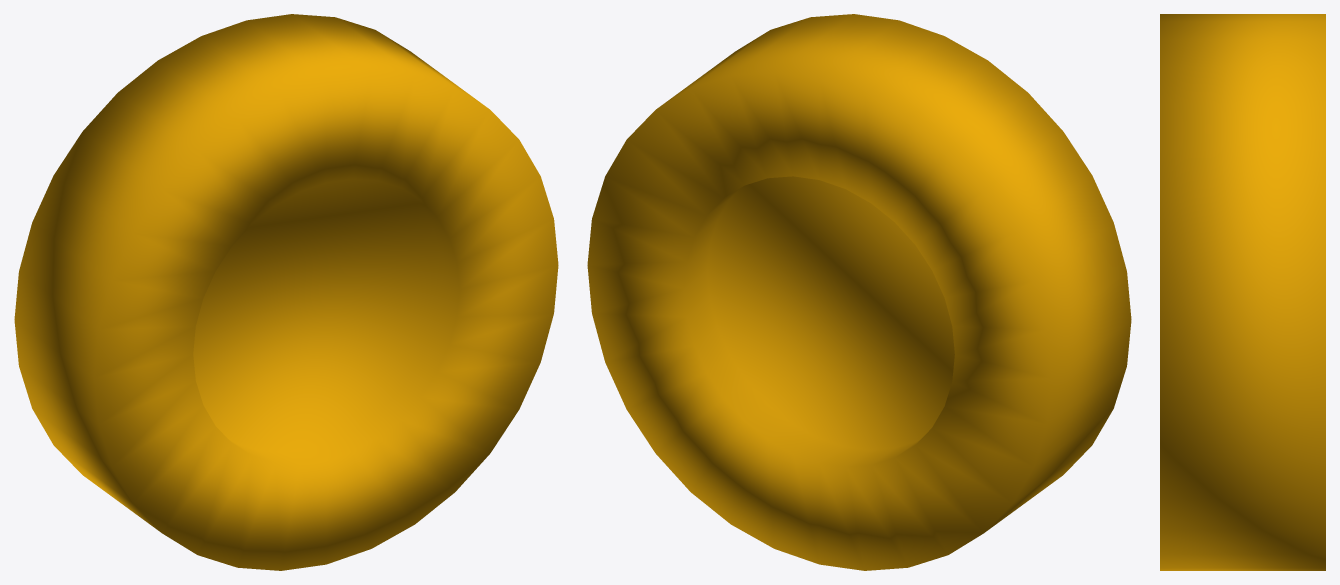
File: cojn.glb
The picture shows the model from 3 angles, left to right: view 1: azimuth 30°, elevation 25°; view 2: azimuth 150°, elevation 25°; view 3: azimuth 270°, elevation 25°; orthographic projection. The views are drawn at different scales.
Visible parts, largest first — view 1: Circle; view 2: Circle; view 3: Circle.
Boxes of the visible parts, <box> form: Circle: <box>14,14,558,570</box>; Circle: <box>587,14,1131,570</box>; Circle: <box>1160,14,1325,570</box>.
Bounding box in the file's own units: 2 × 2 × 0.5954.
